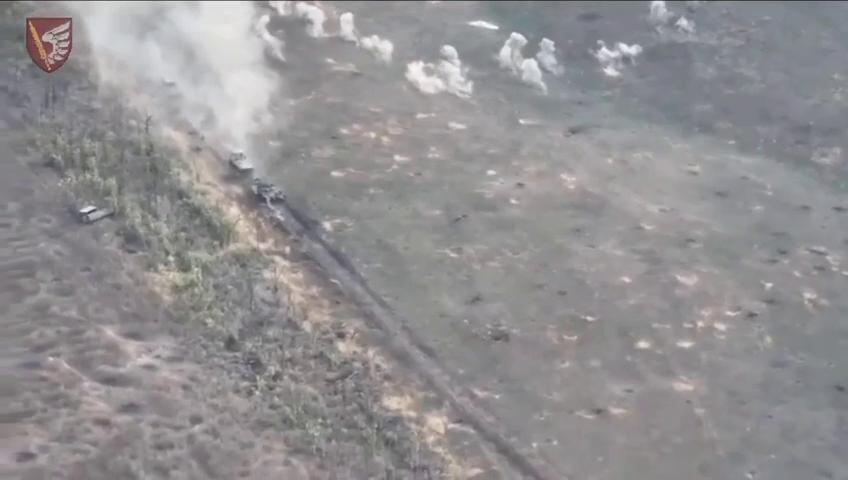tank: (249, 181, 287, 217), (224, 146, 254, 177)
